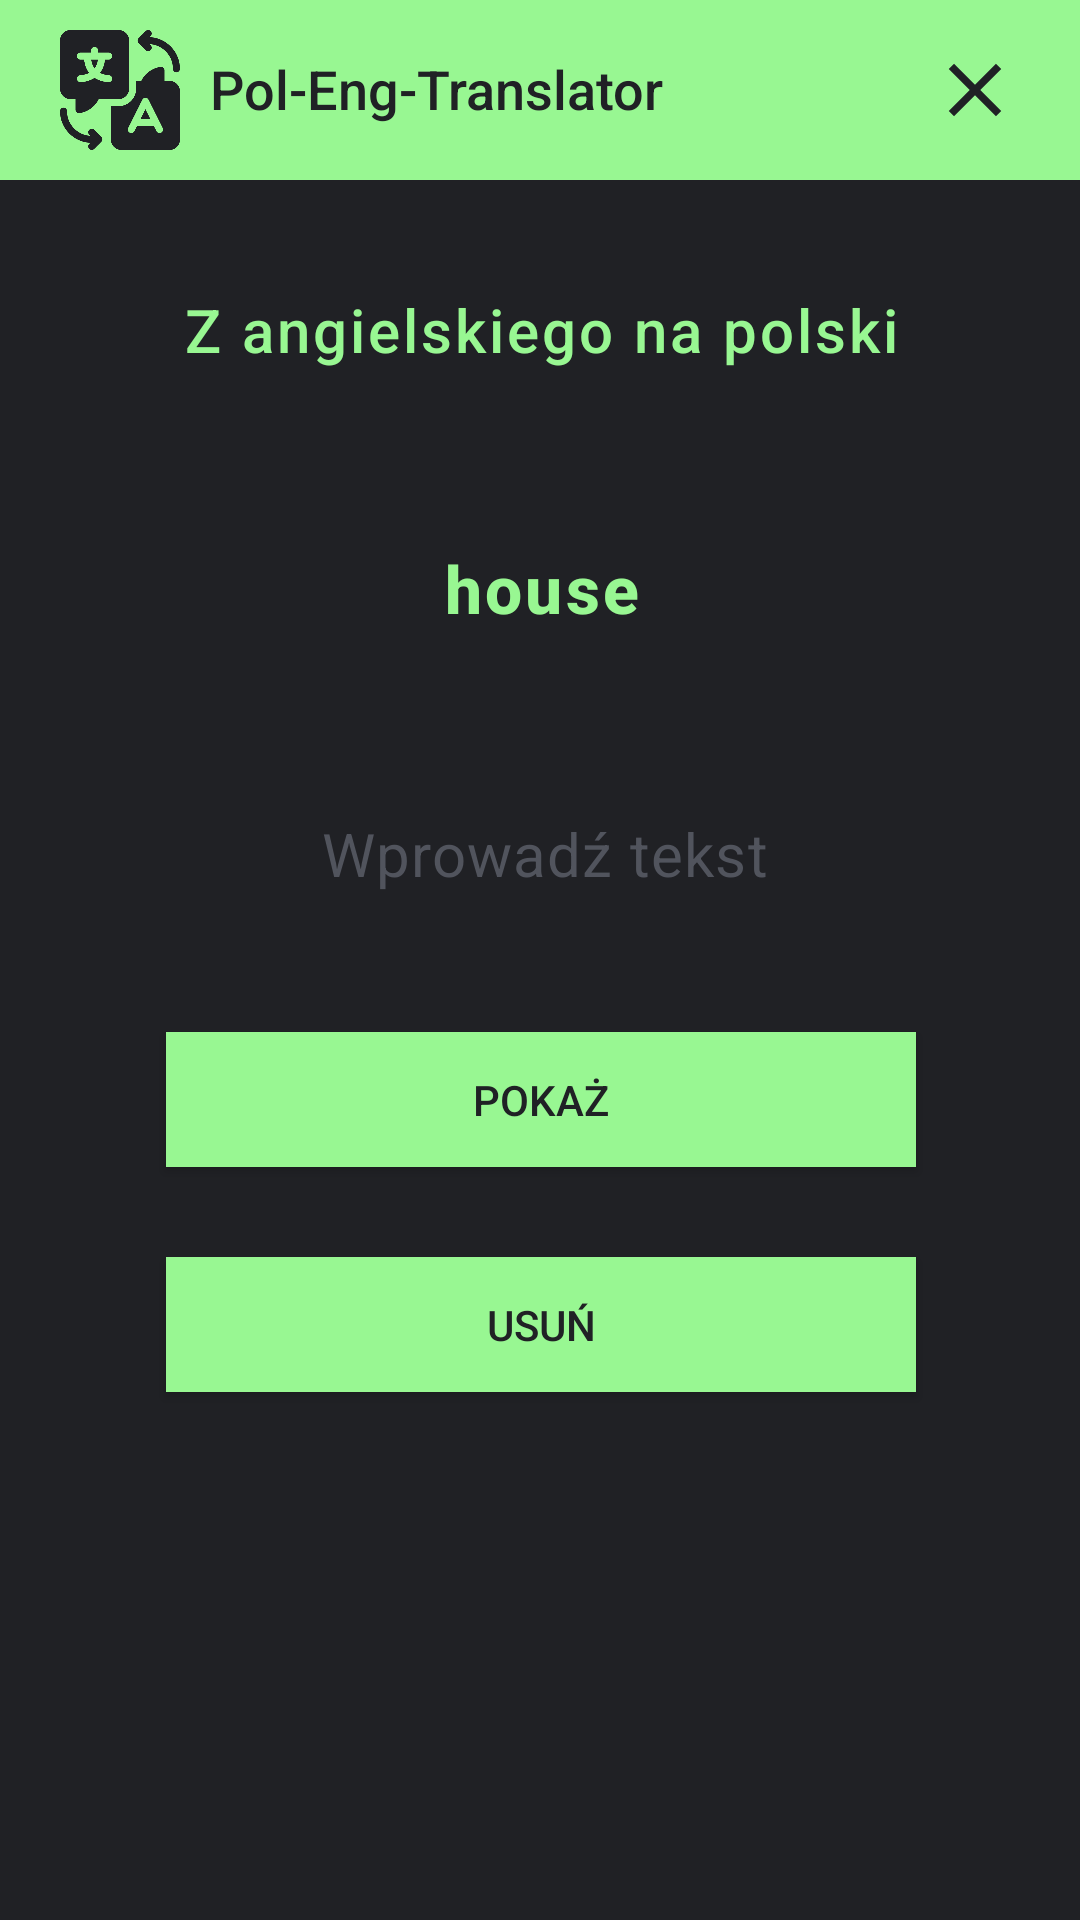

Icon click points for this 1080w x 1920h phone screenshot, format point (x, y):
clear: point (975, 90)
translation: point (120, 90)
